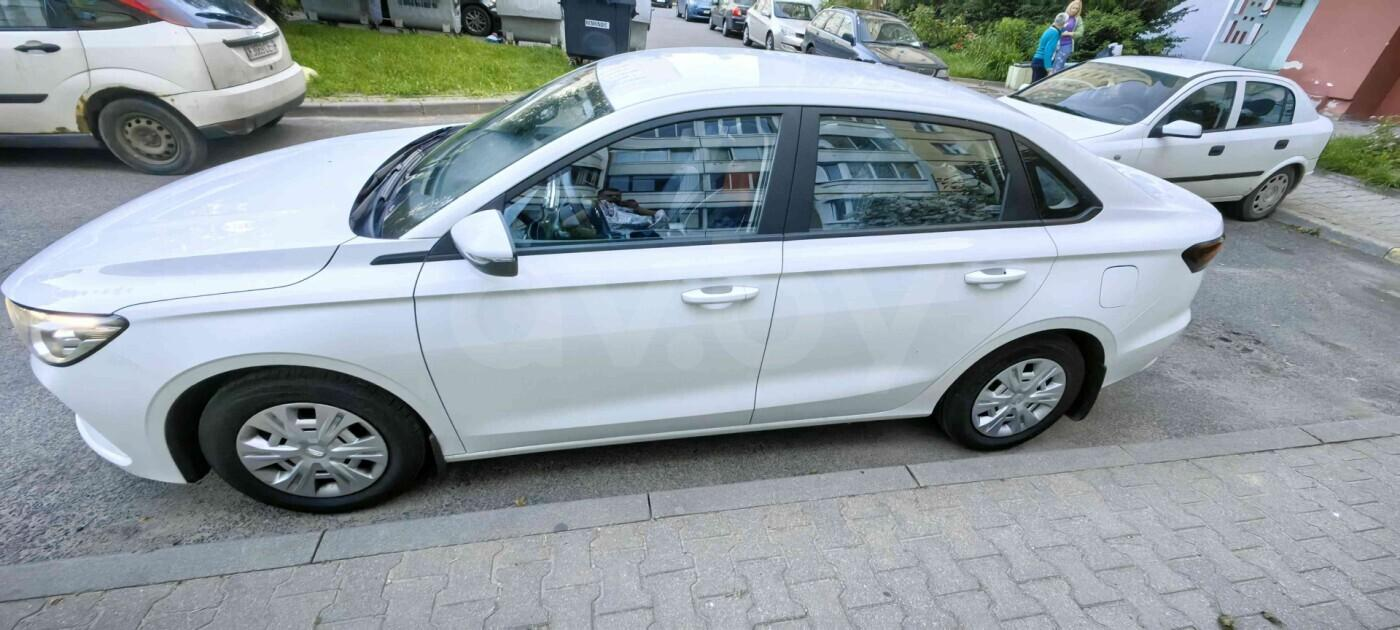Emgrand_2021: (4, 41, 1227, 529)
